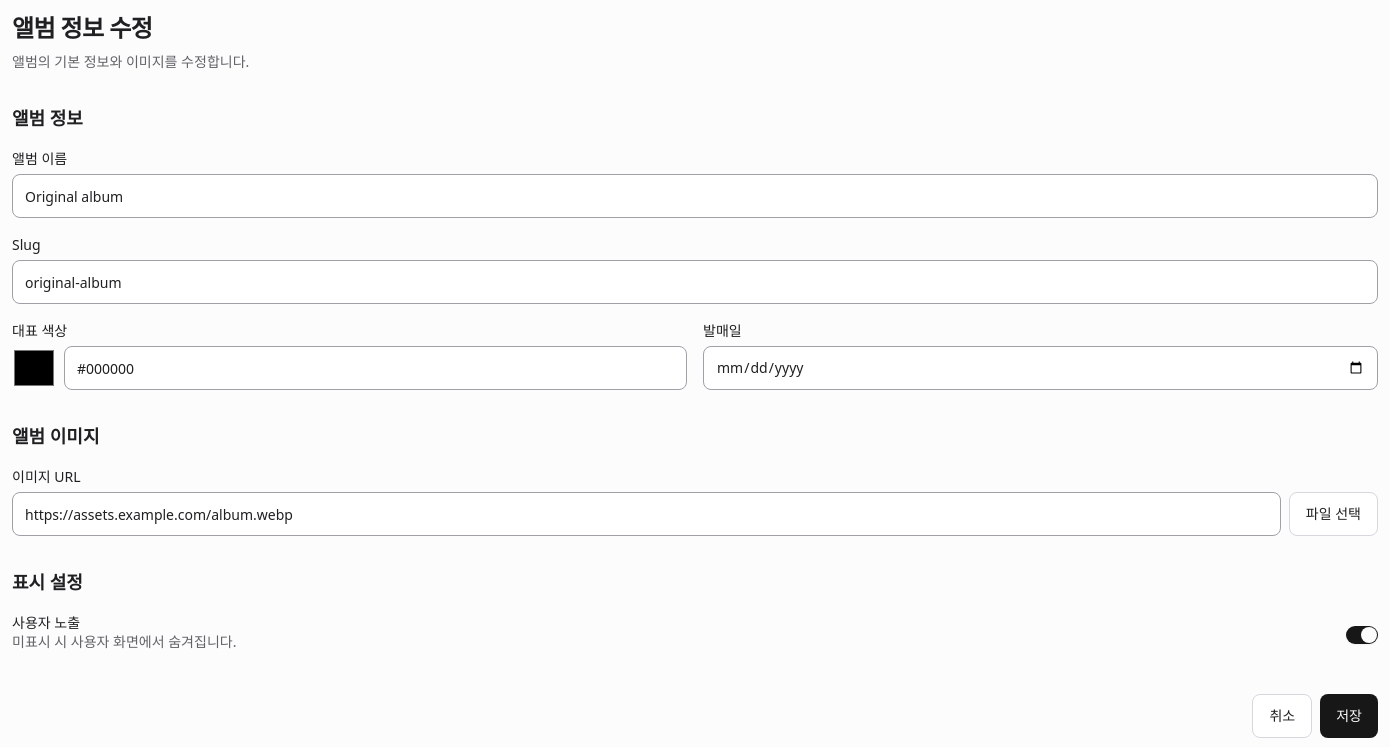
저장 중 중복 제출을 방어하고 실패 후 초안을 유지한다
Later steps or results of the test are not shown.
Step 1. Replace the text in the field labelled "앨범 이름" with "미저장 앨범" → (695, 196), box [12,174,1378,218]
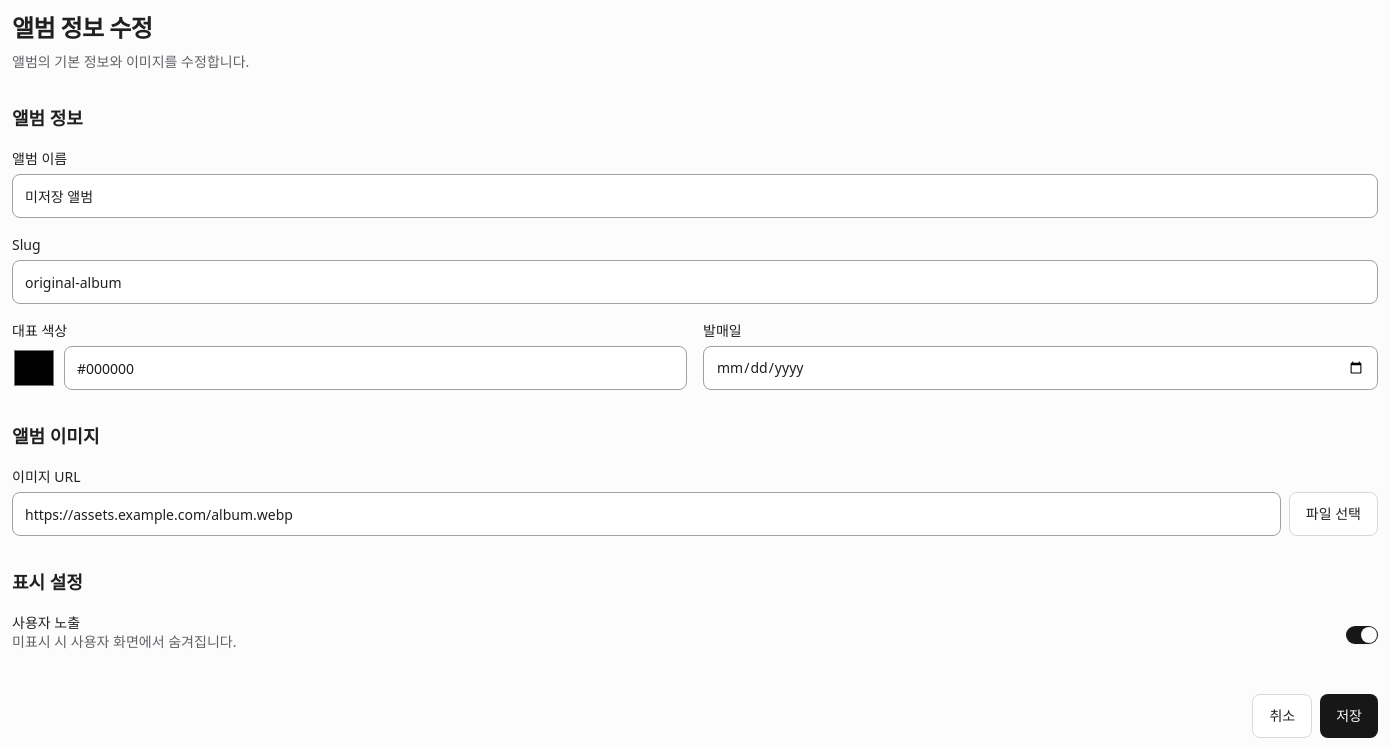
Step 2. Submit the form
Step 3. Submit the form
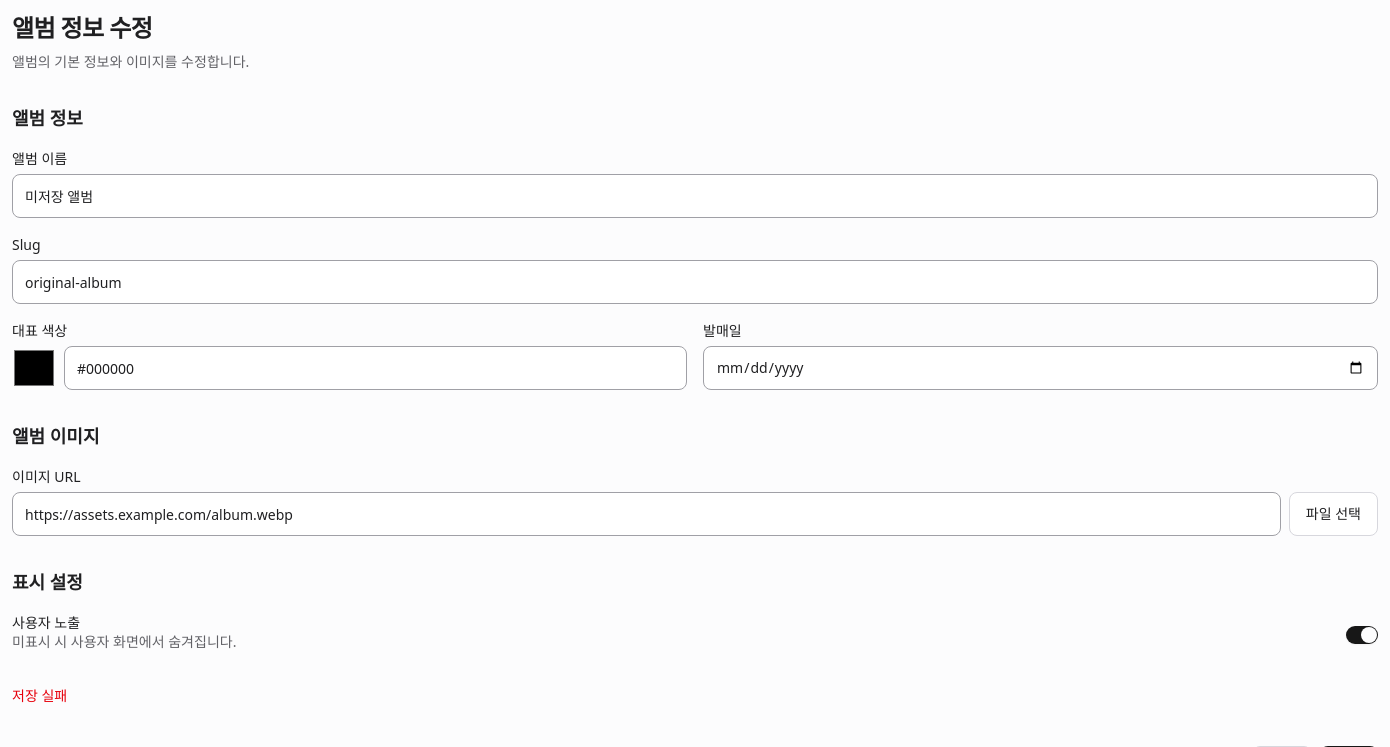
Check: the text "저장 실패" is shown, box [12,686,67,705]
